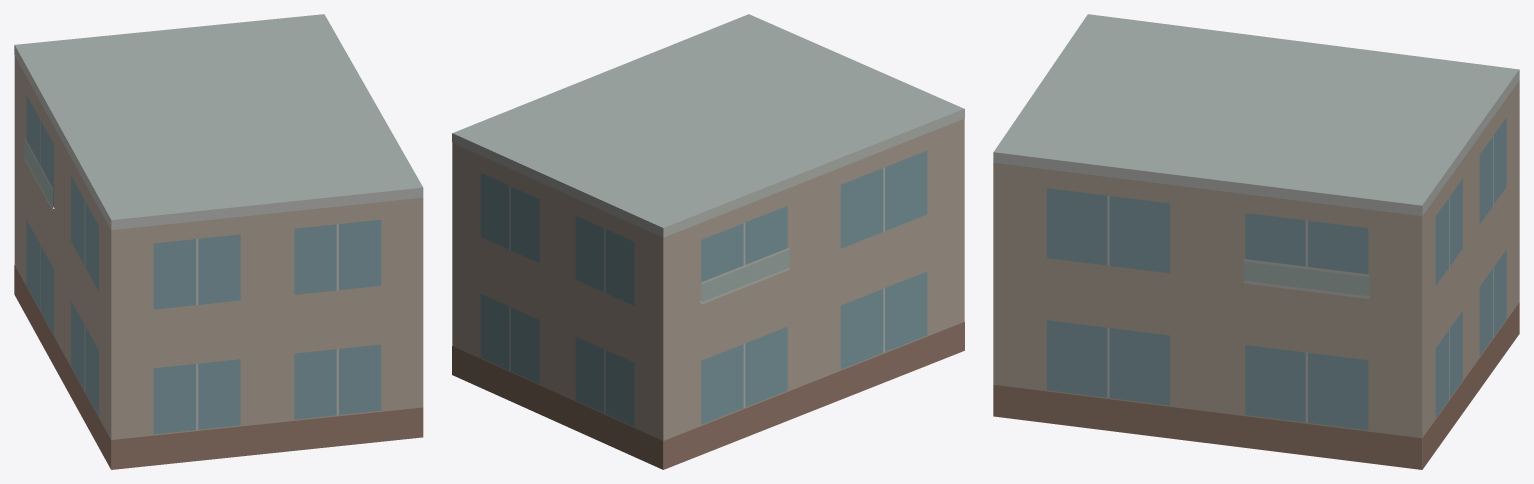
File: survey-upis-32874455.glb
The picture shows the model from 3 angles, left to right: view 1: azimuth 30°, elevation 25°; view 2: azimuth 150°, elevation 25°; view 3: azimuth 270°, elevation 25°; orthographic projection. The views are drawn at different scales.
Parts seen in each view (by area): view 1: survey-upis-32874455.tmp; view 2: survey-upis-32874455.tmp; view 3: survey-upis-32874455.tmp.
Boxes of the visible parts, box(x1,y1,x2,y2) form: survey-upis-32874455.tmp: box(14, 14, 423, 469); survey-upis-32874455.tmp: box(452, 14, 964, 469); survey-upis-32874455.tmp: box(993, 14, 1519, 469).
Size of the model in its own units: 9.5 by 6.1 by 11.02.
